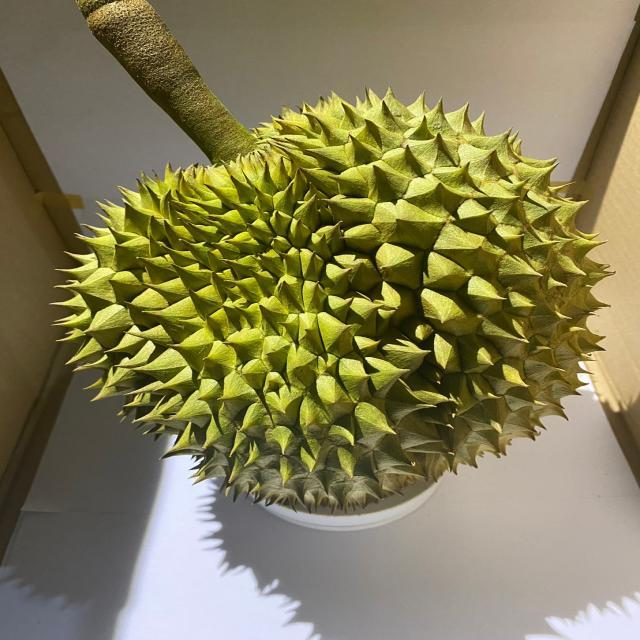immature: (53, 92, 609, 512)
